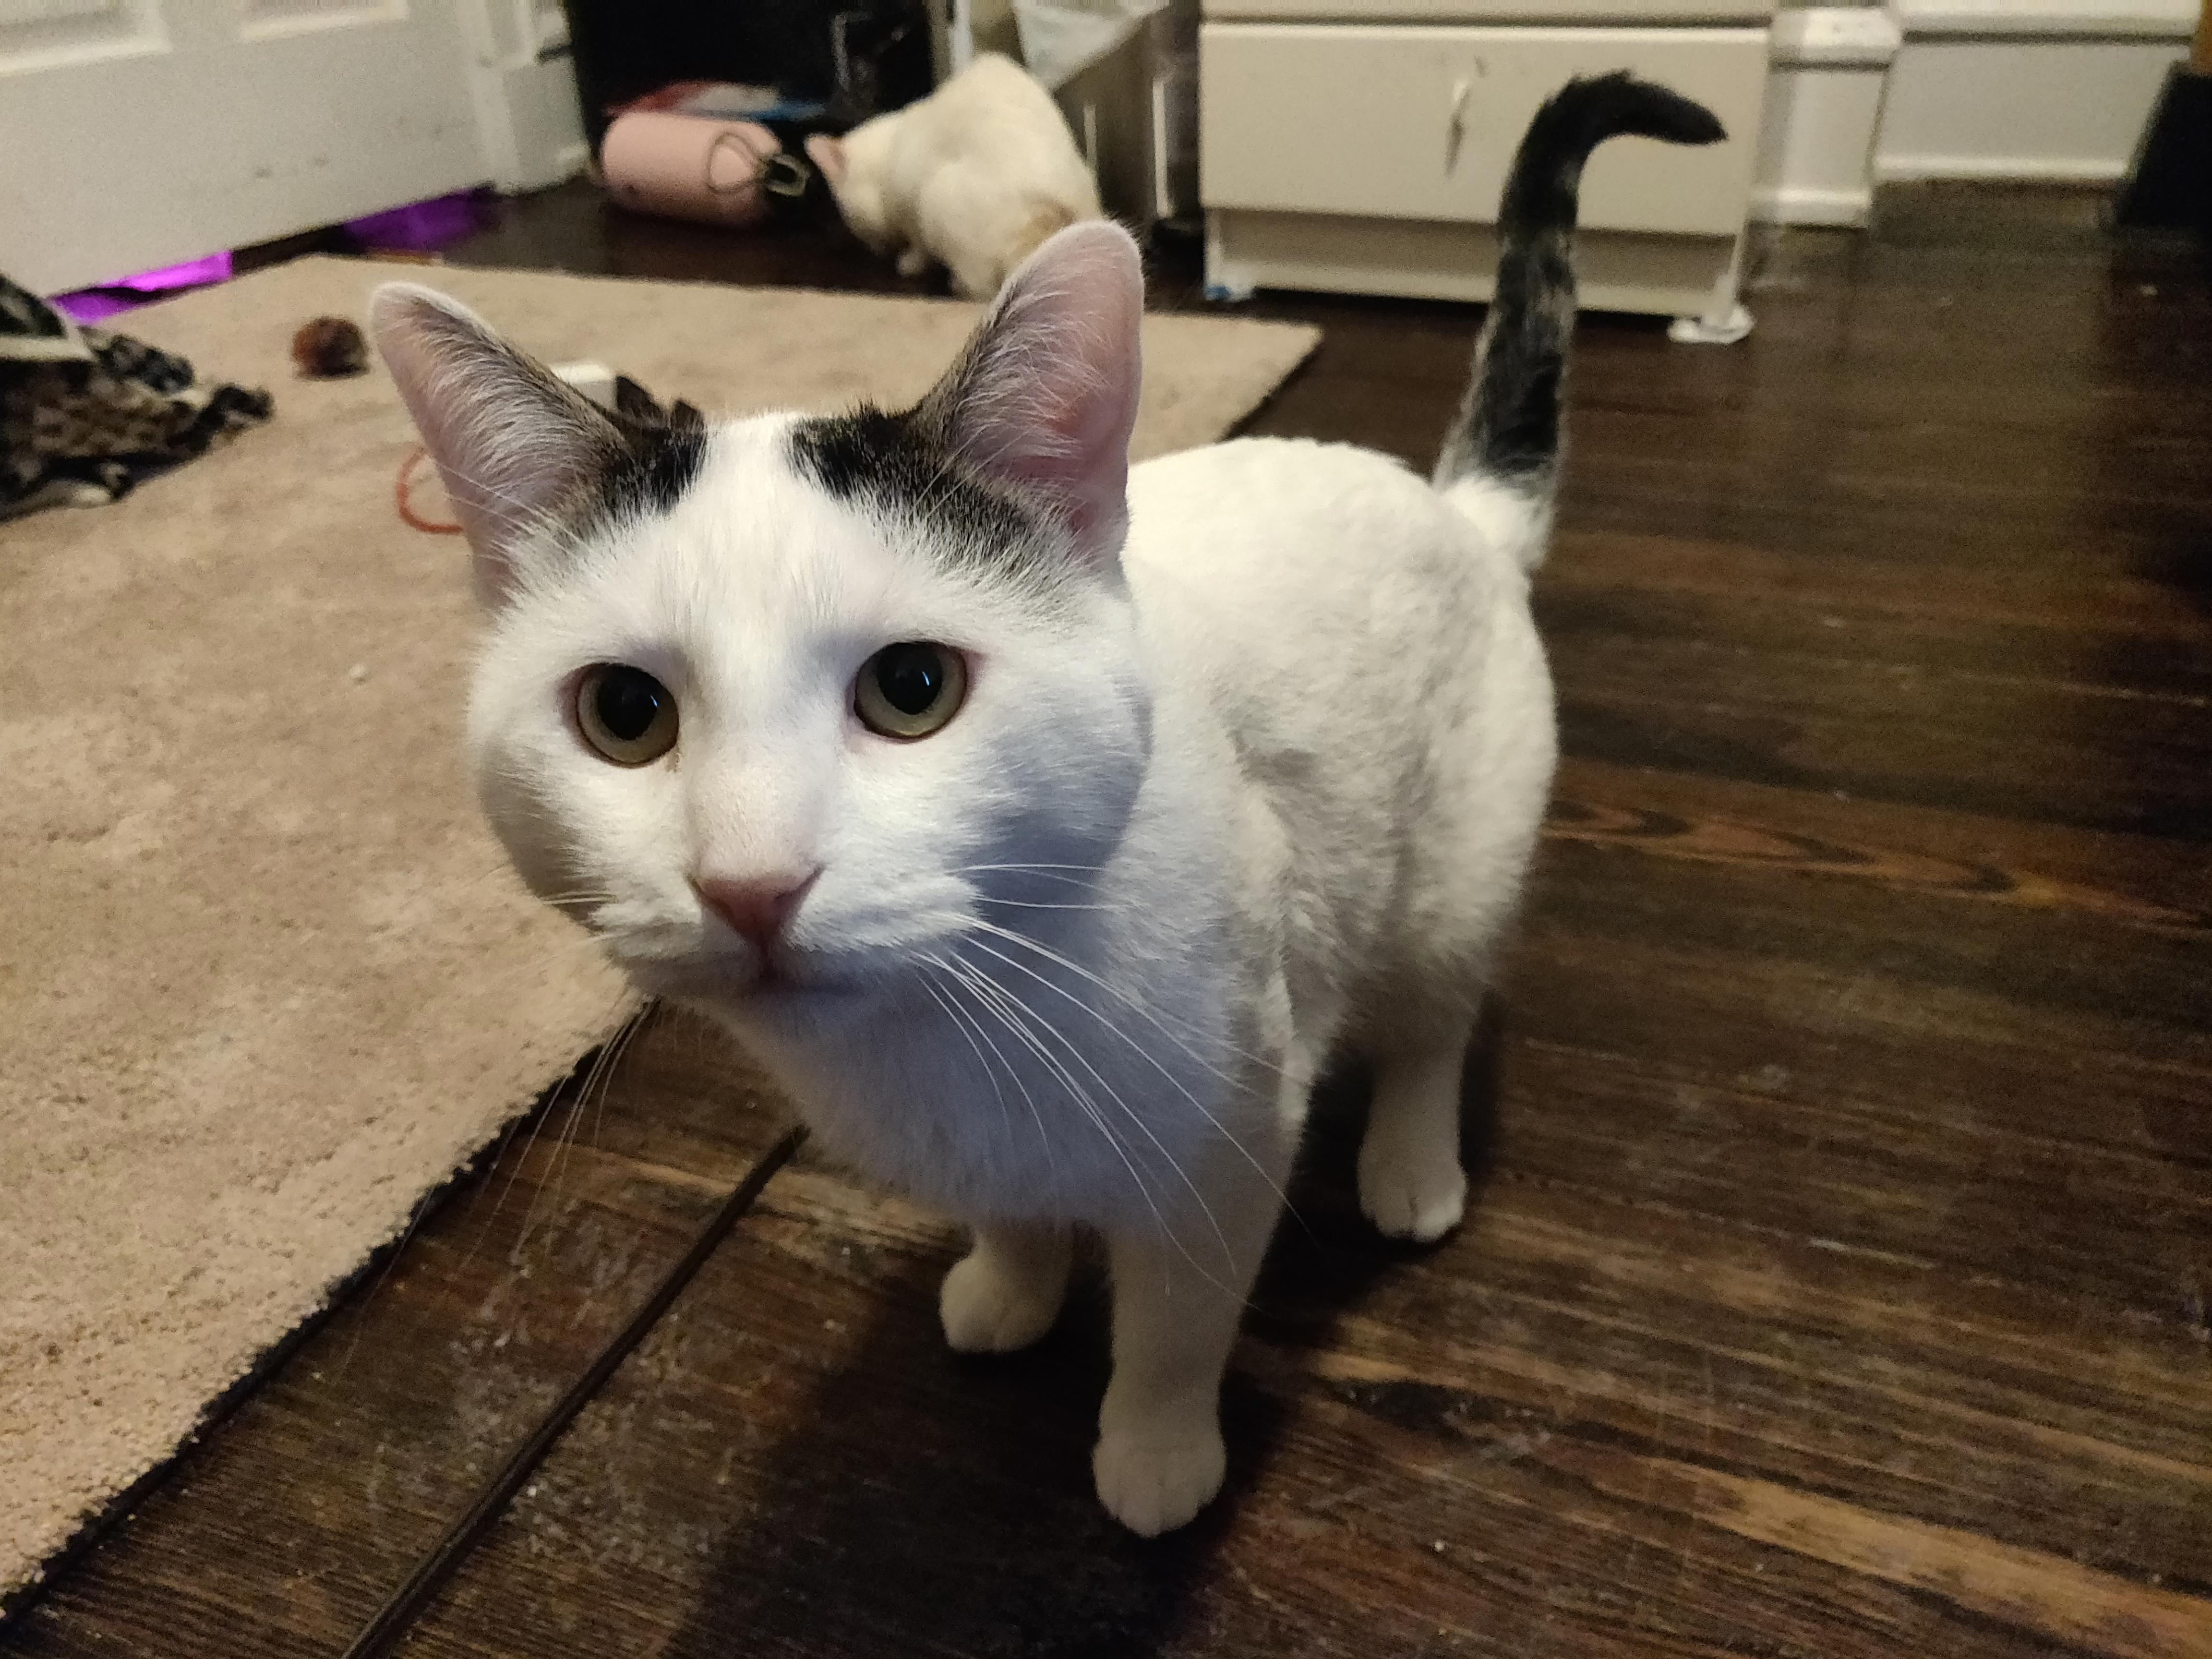cat: (370, 221, 1575, 1513)
